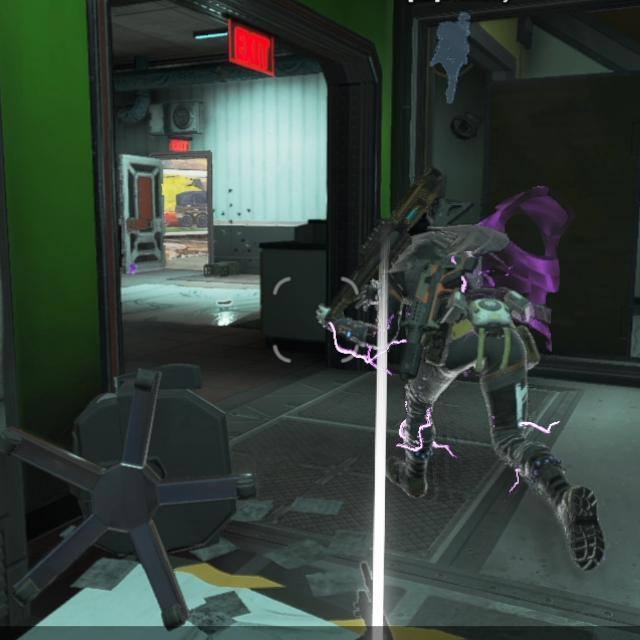avatar: (386, 225, 540, 502)
